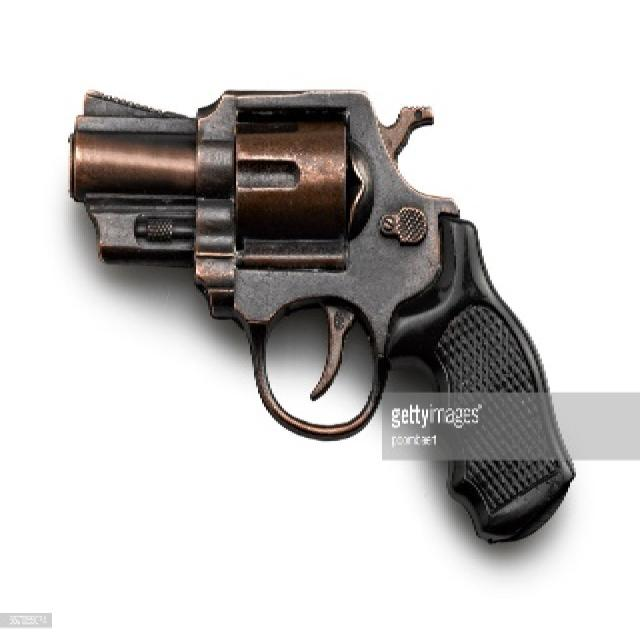handgun: (59, 78, 577, 543)
